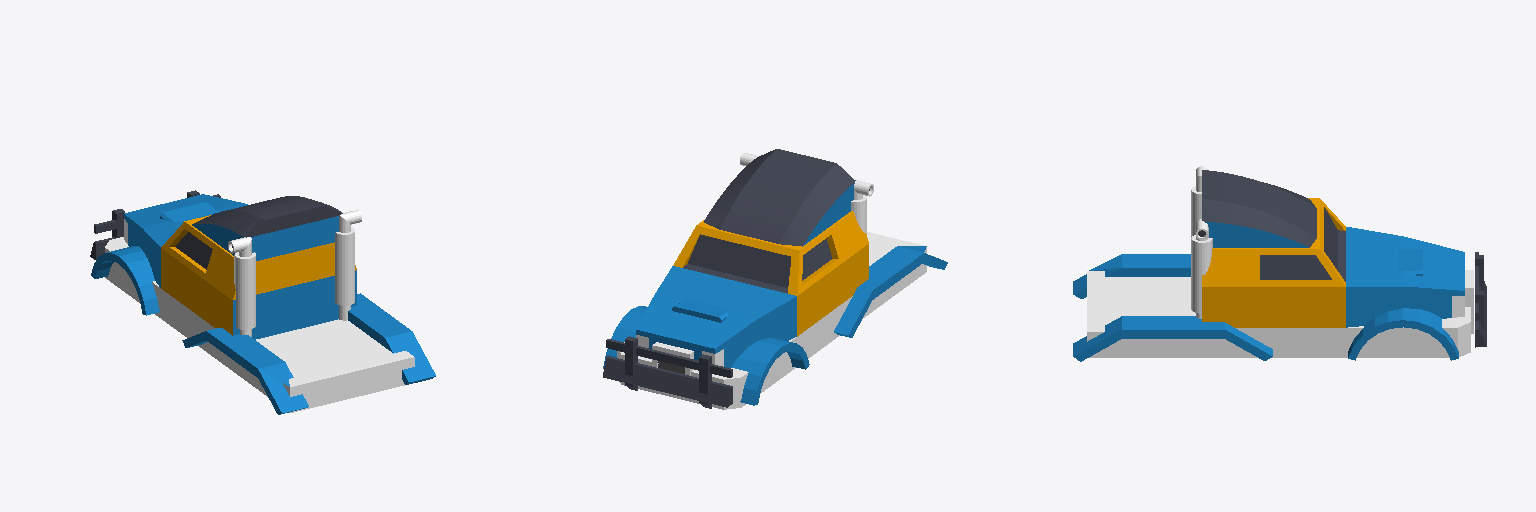
The model's file is Truck01.obj.
3 views of the same model, side by side, from view 1: azimuth 30°, elevation 25°; view 2: azimuth 150°, elevation 25°; view 3: azimuth 270°, elevation 25° (orthographic).
Visible parts, largest first — view 1: Truck01_Truck01_Trailer01_Truck01.001; view 2: Truck01_Truck01_Trailer01_Truck01.001; view 3: Truck01_Truck01_Trailer01_Truck01.001.
Part boxes in pixels (x1,y1,x2,y2): Truck01_Truck01_Trailer01_Truck01.001: (90, 190, 435, 414); Truck01_Truck01_Trailer01_Truck01.001: (603, 149, 947, 409); Truck01_Truck01_Trailer01_Truck01.001: (1073, 166, 1486, 361).
Size of the model in its own units: 1.24 by 1.1 by 2.88.